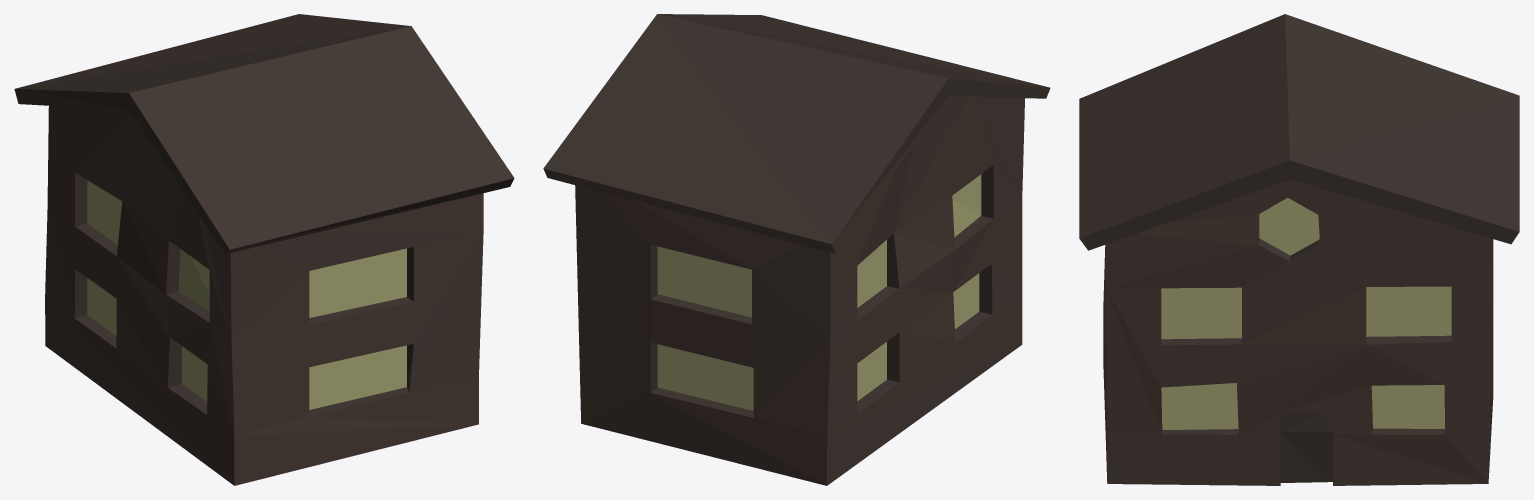
The model's file is cabin_3.fbx.
3 views of the same model, side by side, from view 1: azimuth 30°, elevation 25°; view 2: azimuth 150°, elevation 25°; view 3: azimuth 270°, elevation 25° (orthographic). The views are drawn at different scales.
Visible parts, largest first — view 1: pCube1; view 2: pCube1; view 3: pCube1.
Part boxes in pixels (box(x1,y1,x2,y2)): pCube1: box(14, 14, 514, 485); pCube1: box(543, 14, 1050, 485); pCube1: box(1079, 14, 1519, 485).
Size of the model in its own units: 0.9586 by 1.07 by 1.26.
